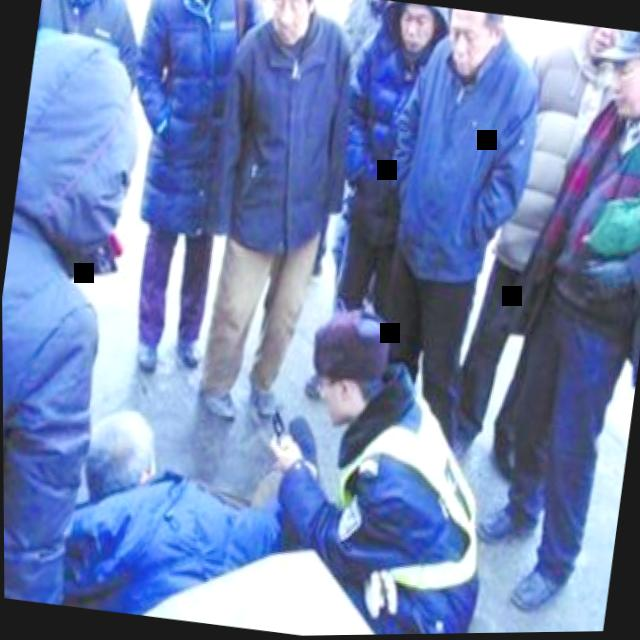Fall-Detected: (46, 388, 302, 635)
